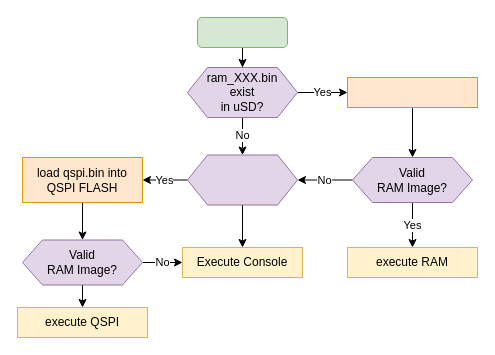
This 495x355 diagram has some shape labels left out. The centre of each missing label's shape, as x and y in pixels:
"load in corresponding ram sector" belongs at (x=412, y=92).
"qspi.bin exist in uSD?" belongs at (x=242, y=179).
"start" belongs at (x=242, y=32).
